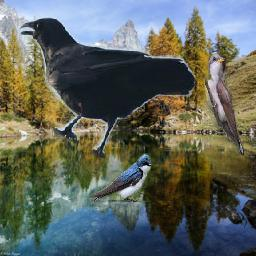Crow: (17, 16, 195, 159)
Cuckoo: (206, 53, 245, 155)
Swallow: (89, 154, 151, 203)
